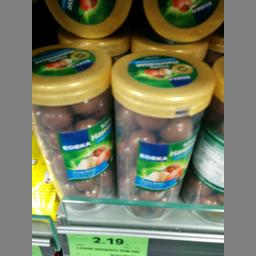chocolate: (111, 49, 216, 222), (32, 42, 113, 209)
